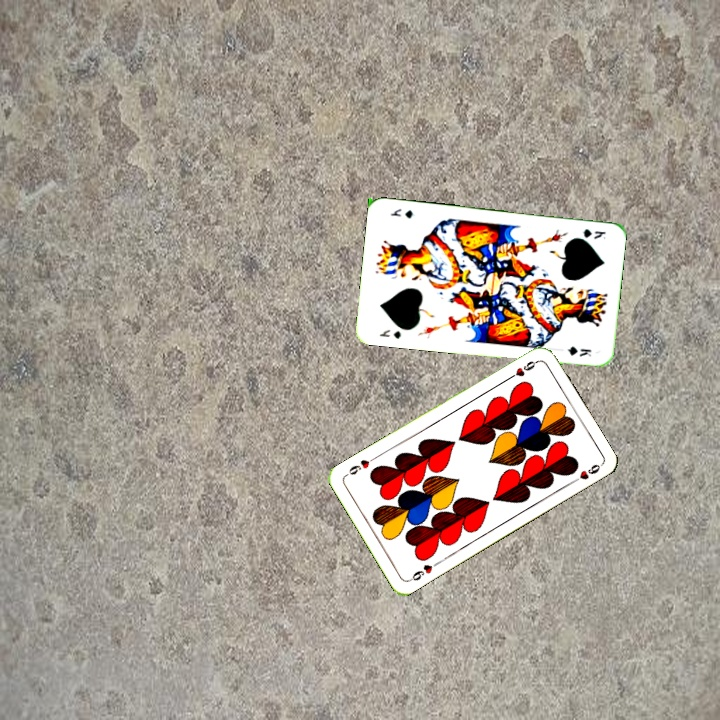GK: (579, 225, 608, 242), (375, 326, 403, 341)
H9: (405, 558, 442, 584), (504, 356, 541, 382)
